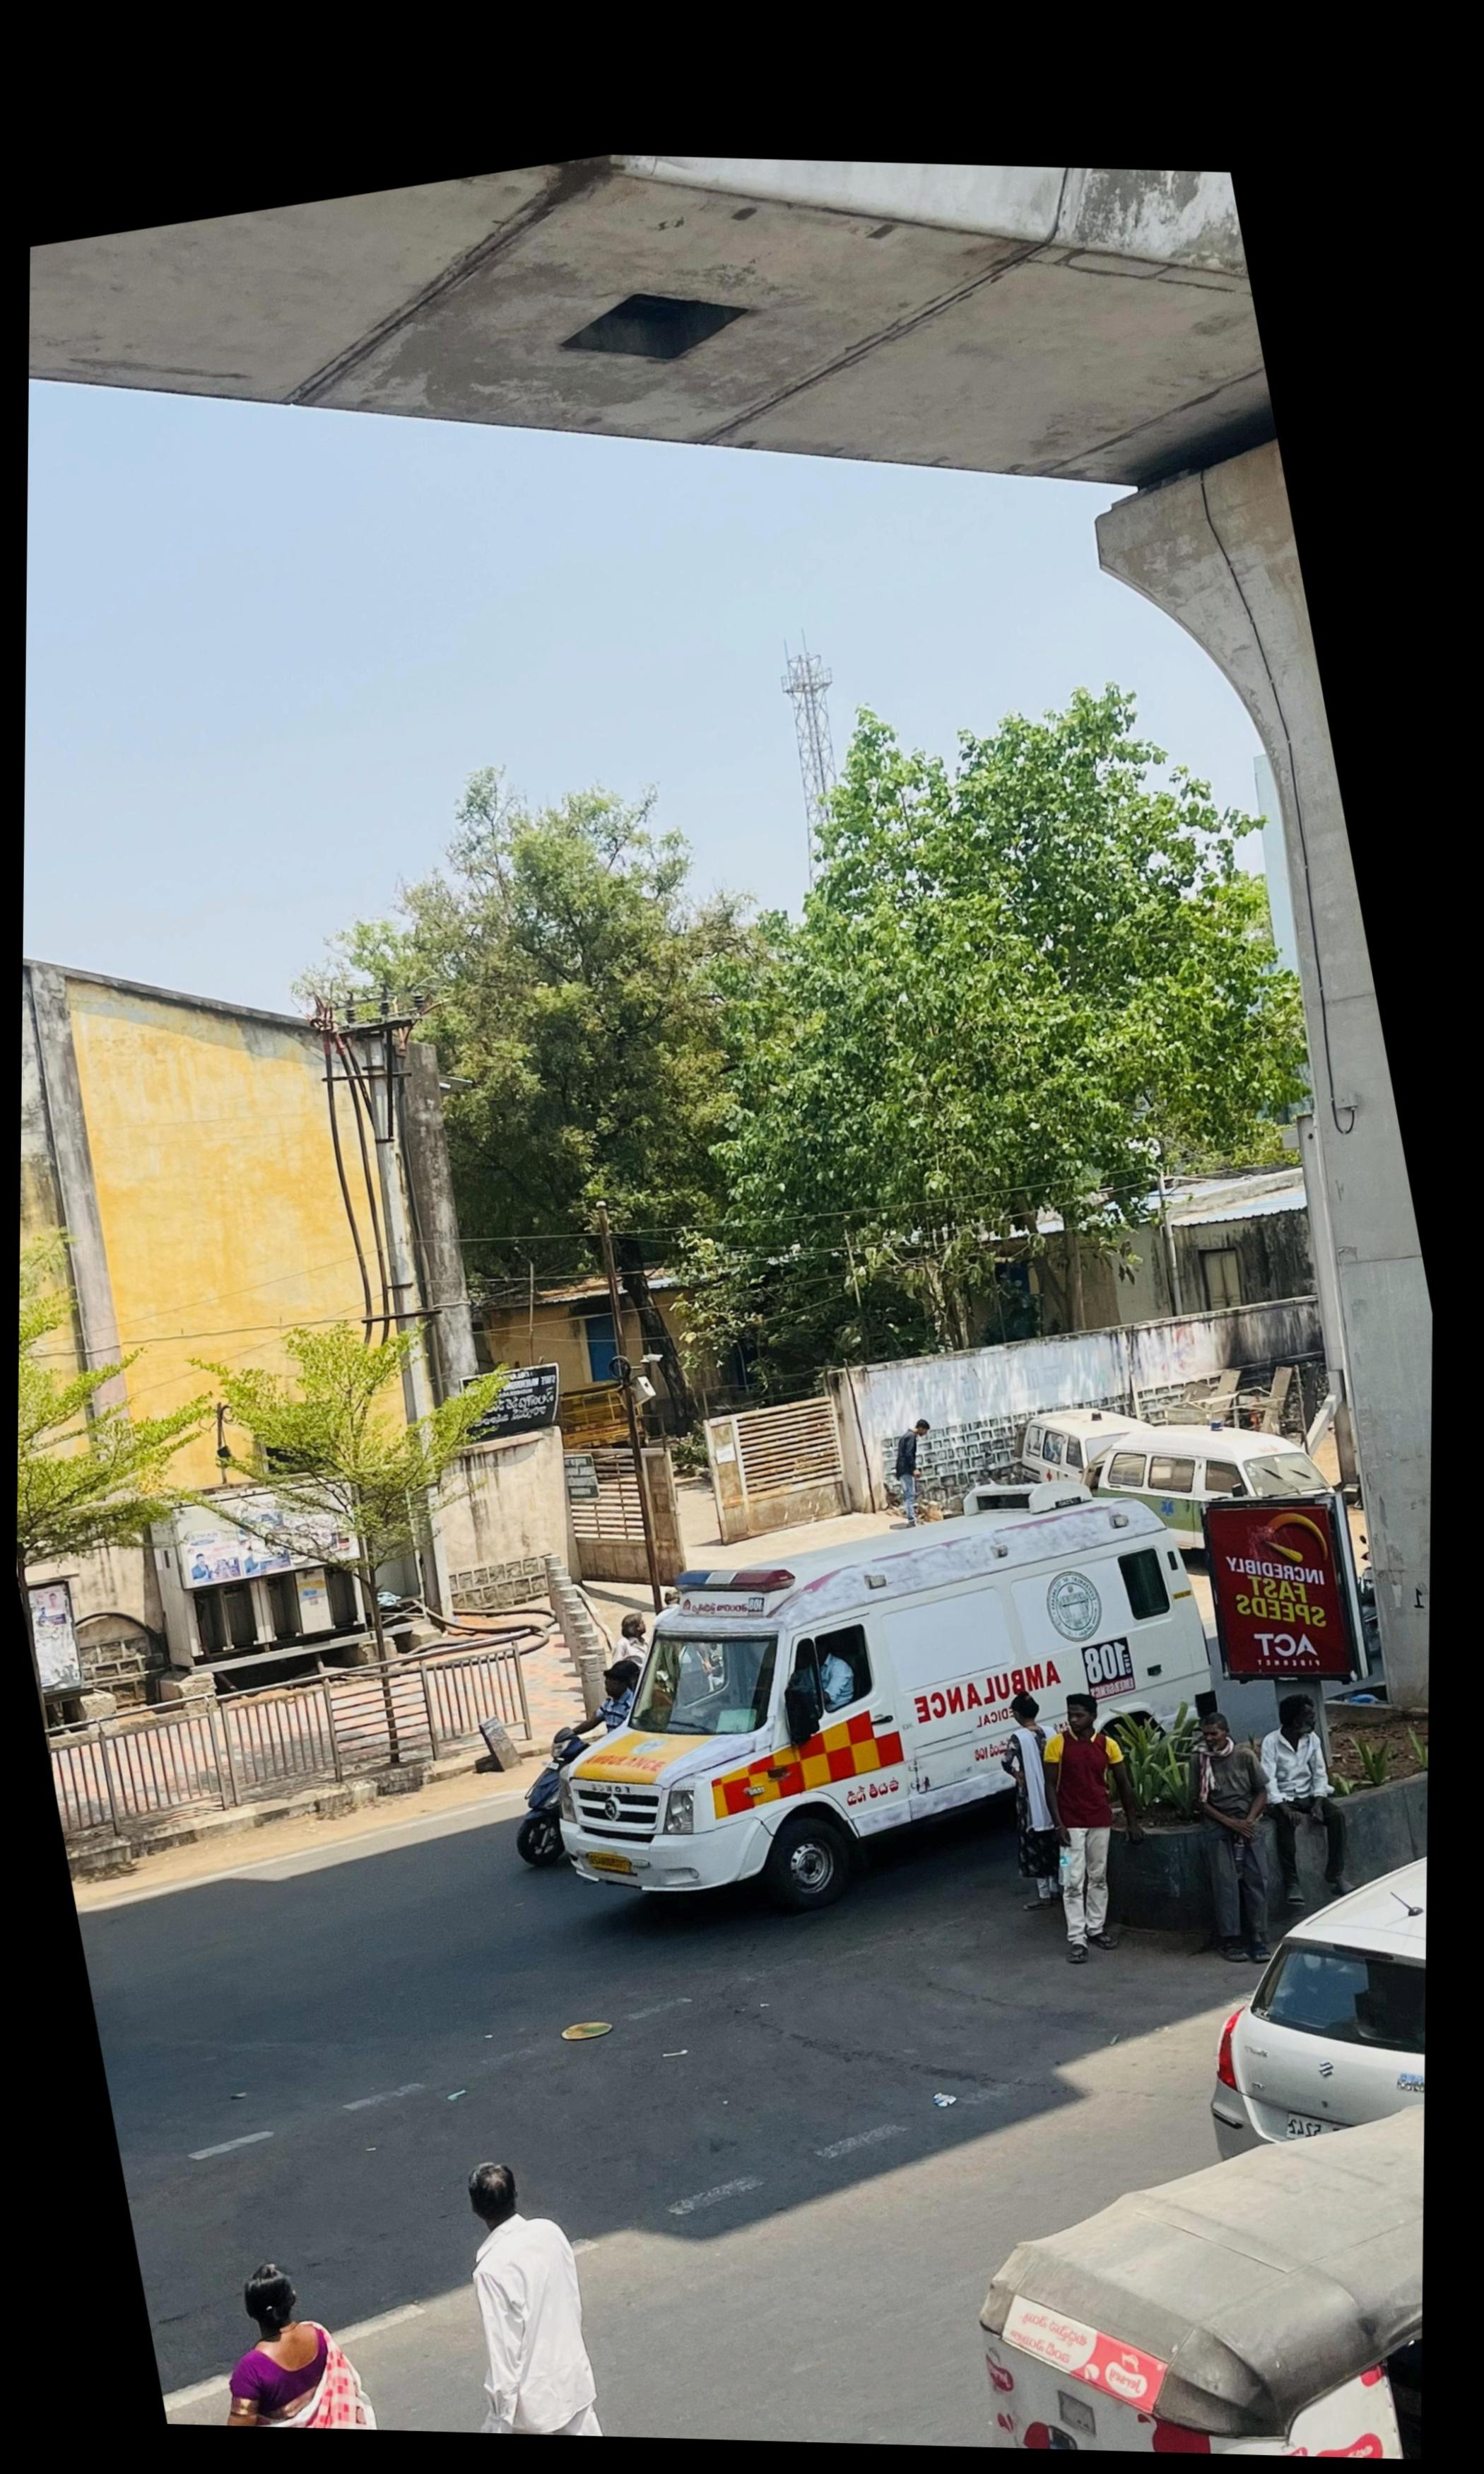ambulance: (558, 1477, 1212, 1898)
